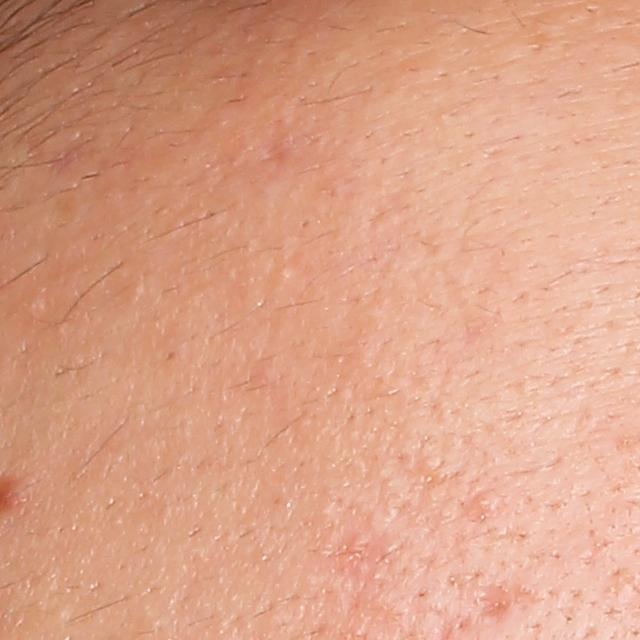atrophic_scar: (478, 586, 515, 620)
comedo: (471, 491, 491, 514), (276, 263, 296, 282)
